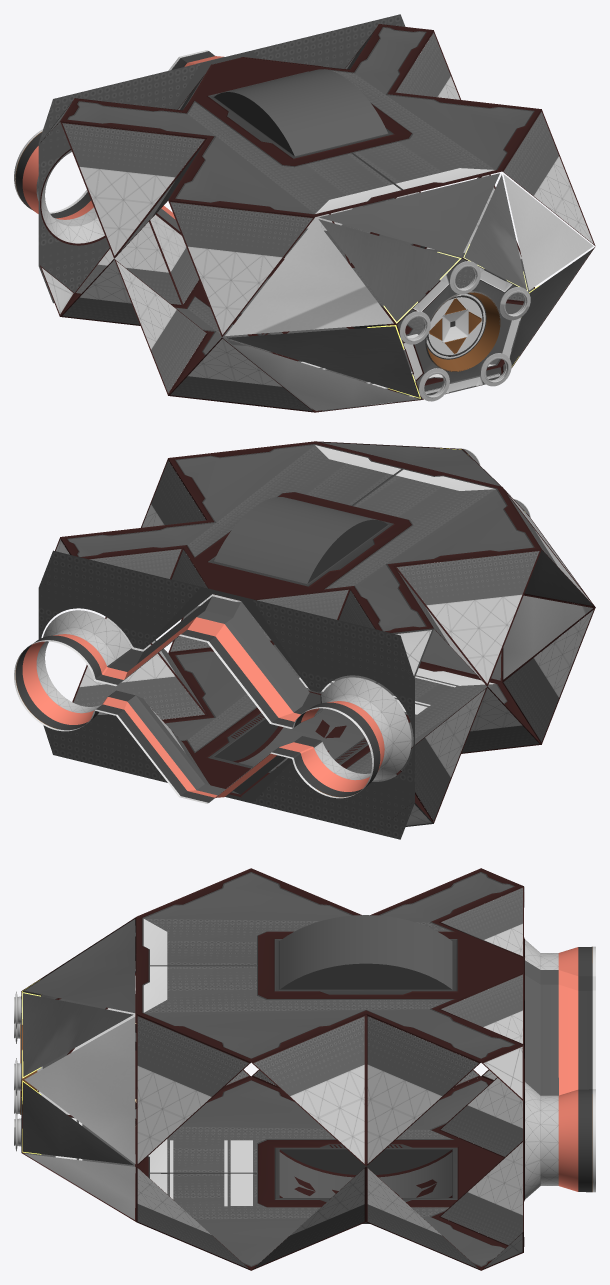
File: arena_insides.fbx
3 views of the same model, one above another, from view 1: azimuth 30°, elevation 25°; view 2: azimuth 150°, elevation 25°; view 3: azimuth 270°, elevation 25° (orthographic). The views are drawn at different scales.
Visible parts, largest first — view 1: arena_insides_mirror_z, arena_insides; view 2: arena_insides_mirror_z, arena_insides; view 3: arena_insides_mirror_z, arena_insides.
Part boxes in pixels (x1,y1,x2,y2): arena_insides_mirror_z: (14, 14, 595, 412); arena_insides: (225, 173, 594, 412); arena_insides_mirror_z: (14, 441, 595, 839); arena_insides: (316, 441, 595, 682); arena_insides_mirror_z: (136, 868, 595, 1270); arena_insides: (14, 917, 136, 1221).
Bounding box in the file's own units: 3224 × 2000 × 4052.
